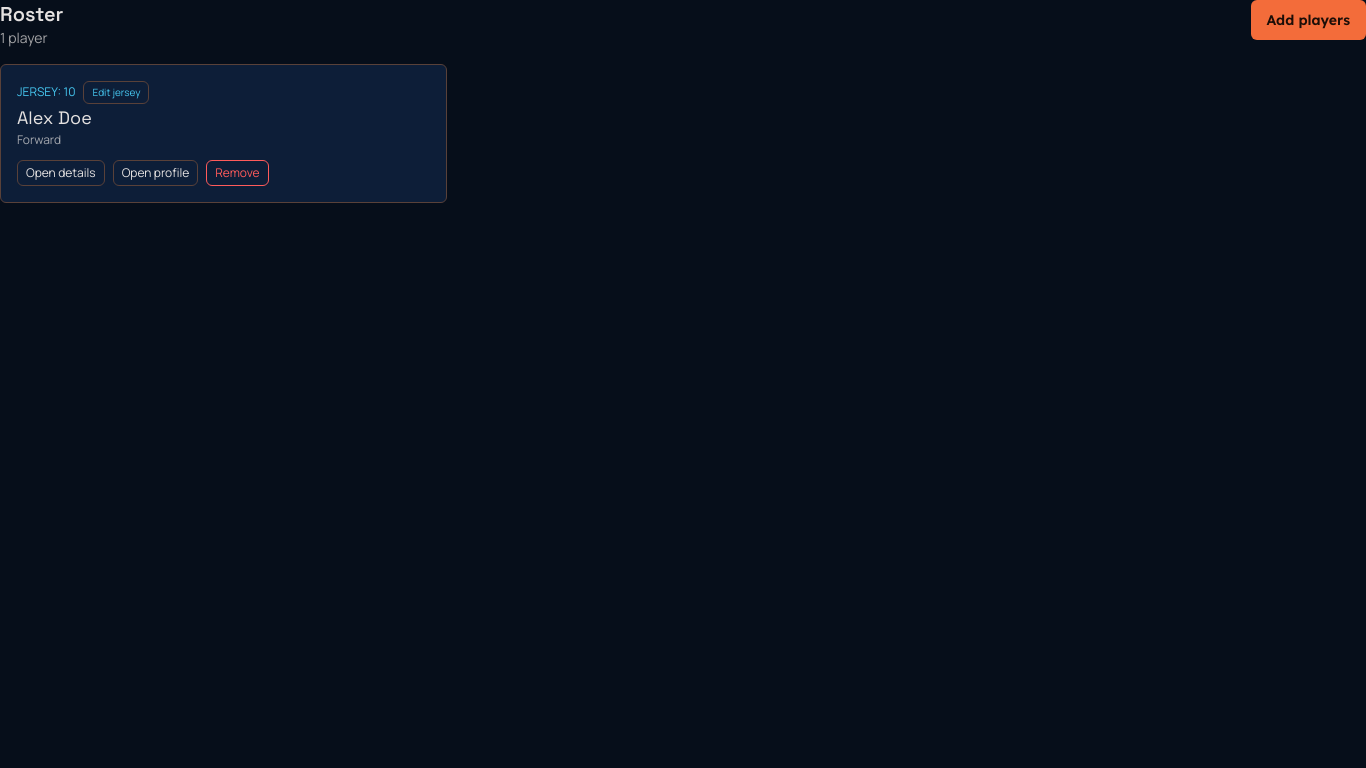
Test: TeamRosterManager › opens a confirmation dialog before removing a player
What coordinates should you click on to do the following:
click the button "Remove"
I would click on:
 (237, 173)
Its box is [206,160,269,186].
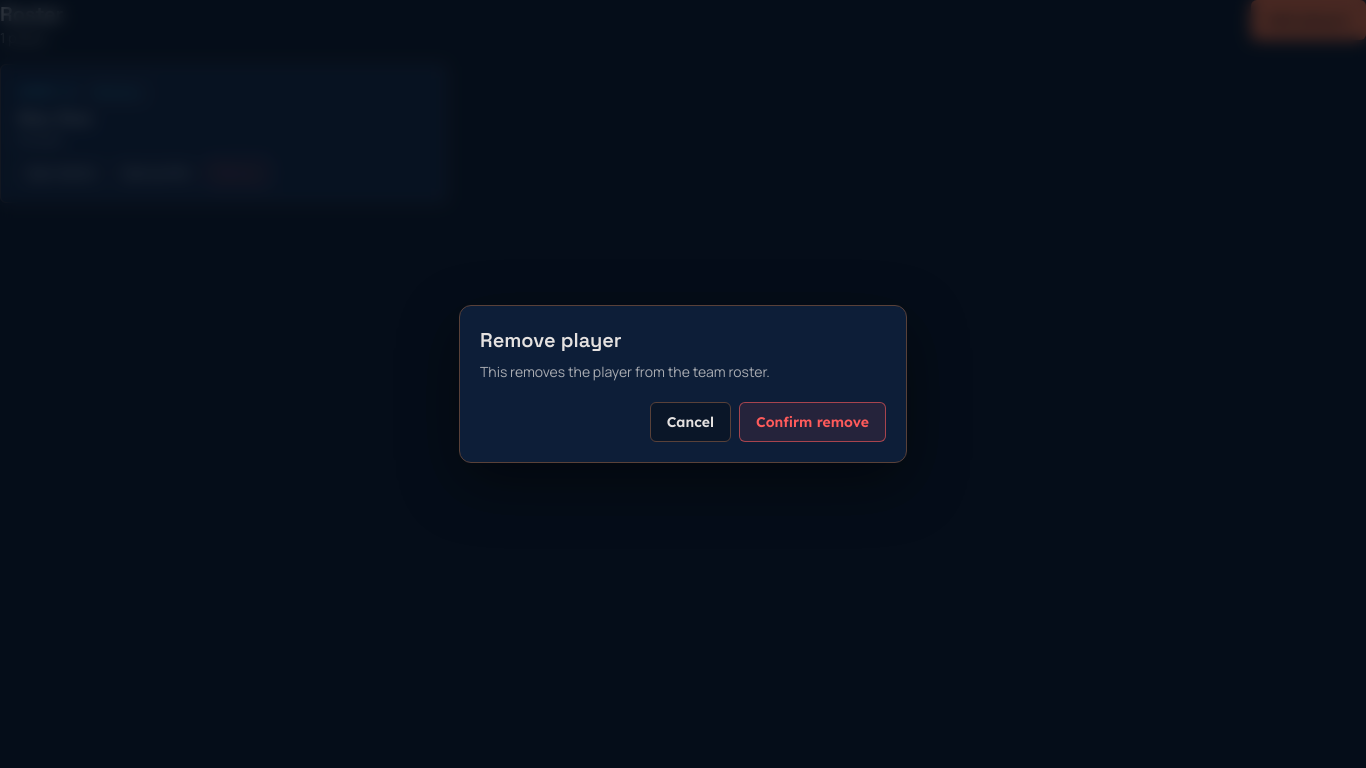
expect the dialog is shown: met, box [459,305,907,463]
expect the text "This removes the player from the team roster." is shown: met, box [480,362,770,381]
